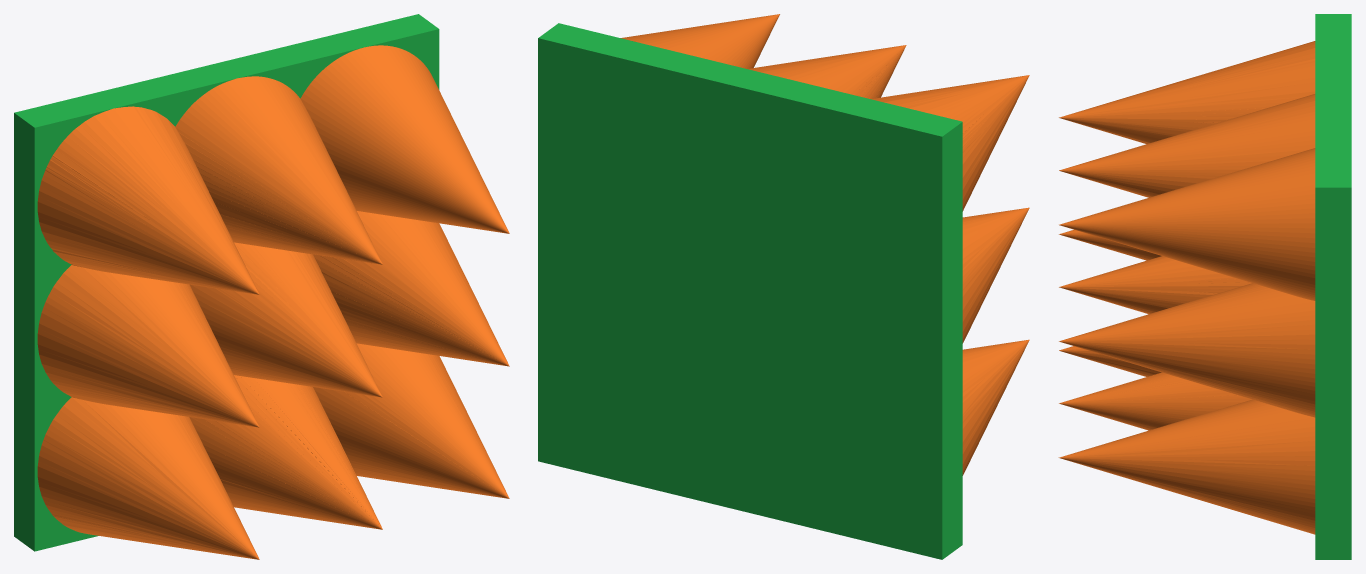
File: Spike.obj
3 views of the same model, side by side, from view 1: azimuth 30°, elevation 25°; view 2: azimuth 150°, elevation 25°; view 3: azimuth 270°, elevation 25° (orthographic). The views are drawn at different scales.
Parts seen in each view (by area): view 1: Object.1; view 2: Object.1; view 3: Object.1.
Boxes of the visible parts, bbox=[...] form: Object.1: bbox=[14, 14, 509, 559]; Object.1: bbox=[538, 14, 1029, 559]; Object.1: bbox=[1058, 14, 1351, 559].
Size of the model in its own units: 40 by 40 by 28.53.
